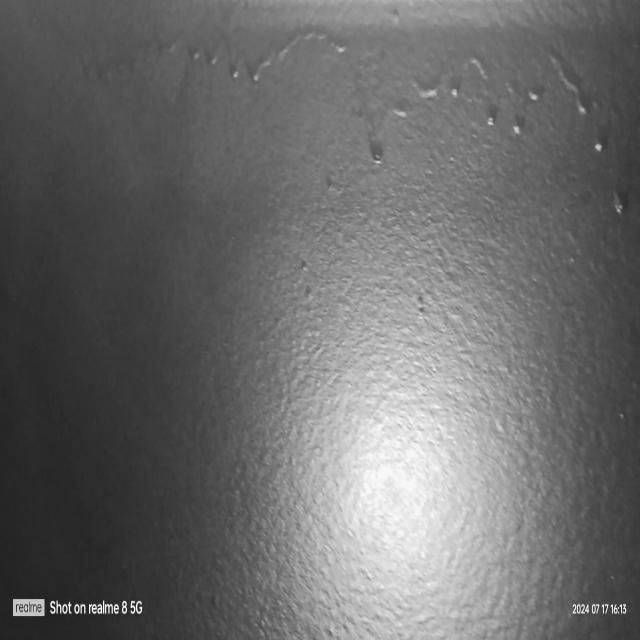paint drips: (73, 13, 639, 226)
